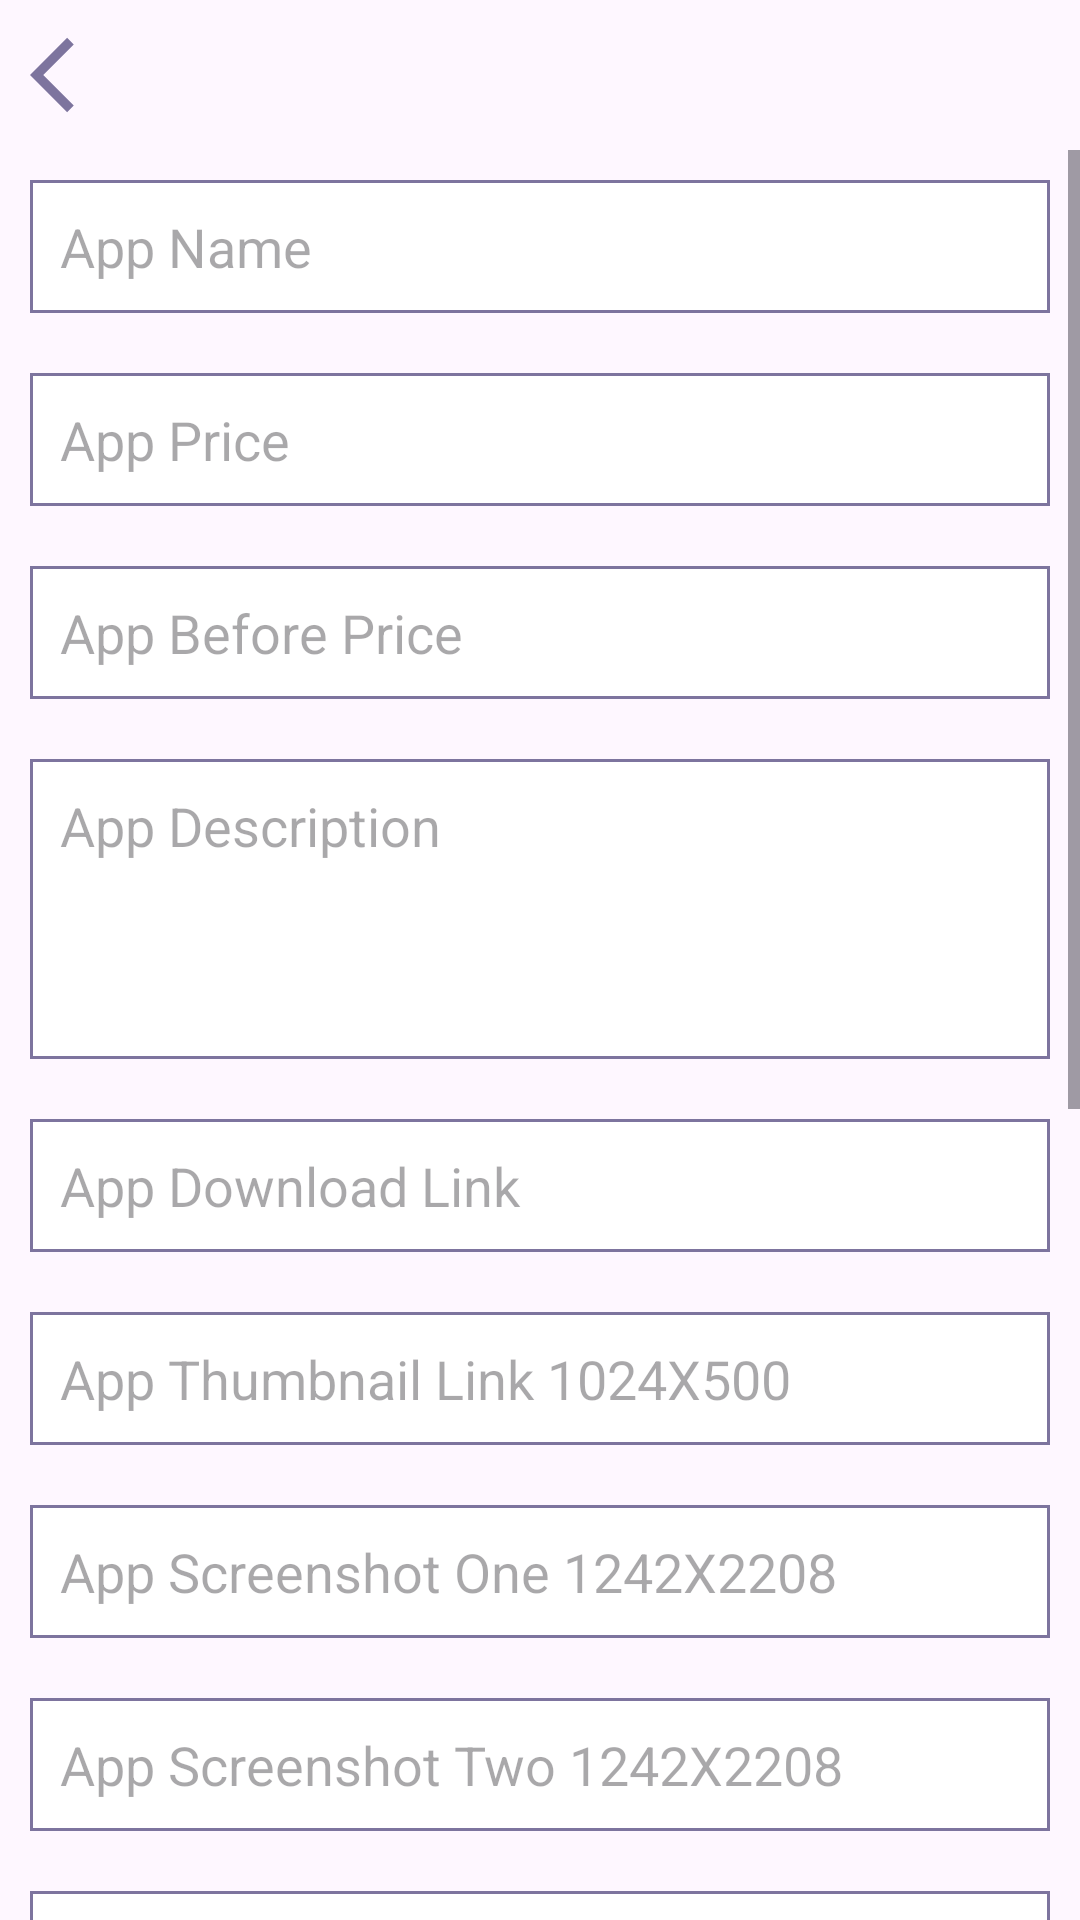

Named icons in this screenshot (1080px x 1920px) and their bounding boxes, (x1, y1, x2, y2):
back: (30, 38, 74, 112)
